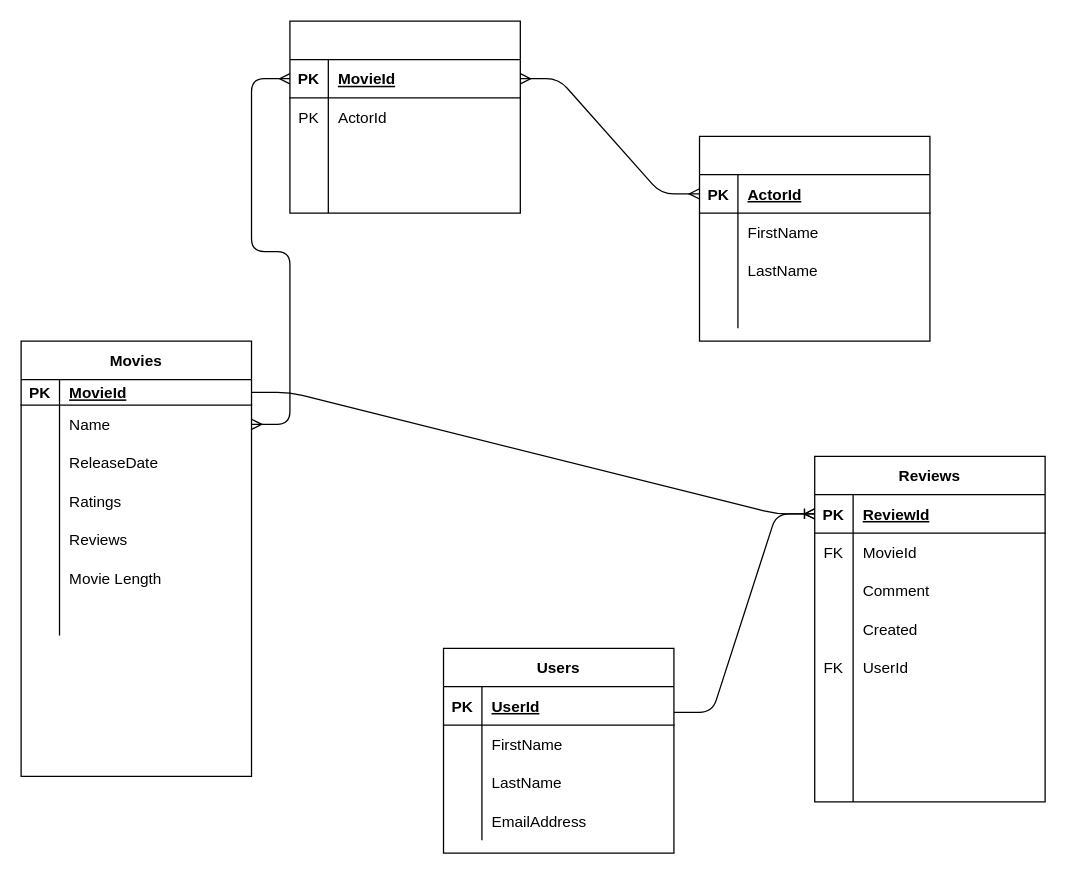
This 1066x874 diagram has some shape labels left out. The box of each missing label's shape, as (x1, y1, x2, y2) in pixels:
Actors: (698, 135, 930, 341)
MoviesActors: (289, 20, 520, 213)
